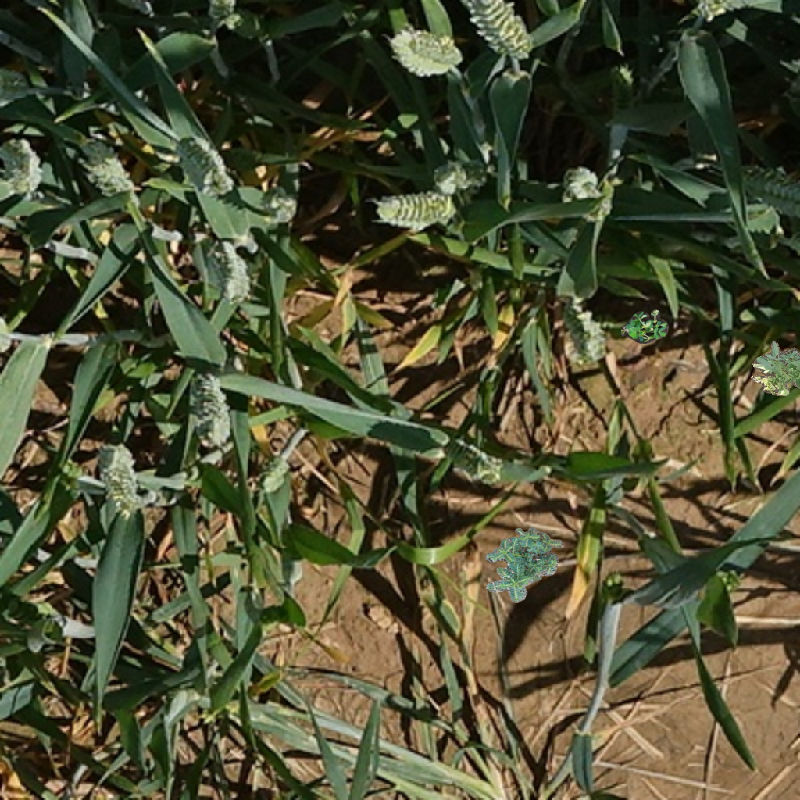spikelet: (539, 286, 611, 364), (165, 123, 235, 200), (453, 1, 537, 61), (171, 363, 235, 441), (383, 19, 461, 79), (369, 179, 457, 231), (421, 147, 495, 203), (737, 155, 800, 217), (93, 439, 147, 511), (443, 431, 503, 491), (75, 139, 133, 197), (1, 129, 47, 201), (205, 240, 257, 303), (551, 155, 607, 207), (250, 182, 310, 226), (253, 447, 291, 495), (191, 1, 253, 27), (607, 61, 634, 115), (50, 455, 81, 495), (681, 1, 743, 21), (710, 563, 741, 602), (597, 567, 623, 600), (1, 75, 29, 104)
weed: (485, 527, 564, 603), (744, 335, 800, 406), (621, 309, 669, 344)
